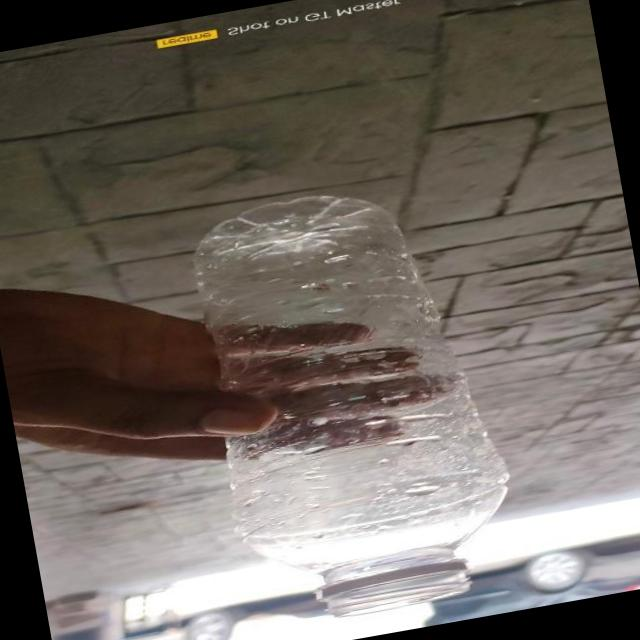plastic_bottle: (176, 169, 530, 633)
